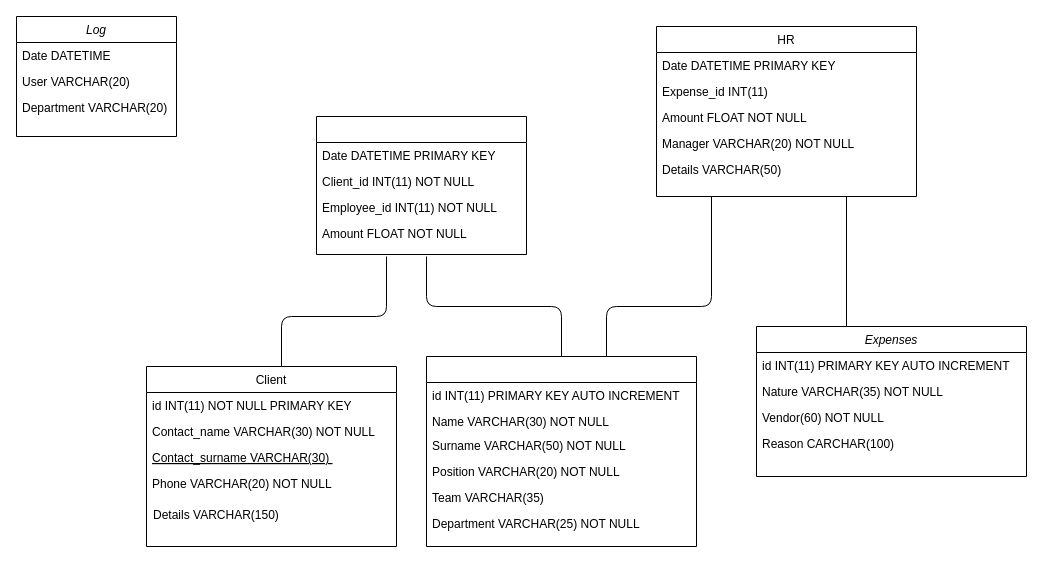
Image size: 1043x563. Some labels were removed from this diagram. Here are the shapes that lost their labels. From the top down, the box of each, then its label:
(316, 116, 526, 254): Sales
(426, 356, 696, 546): Employee
